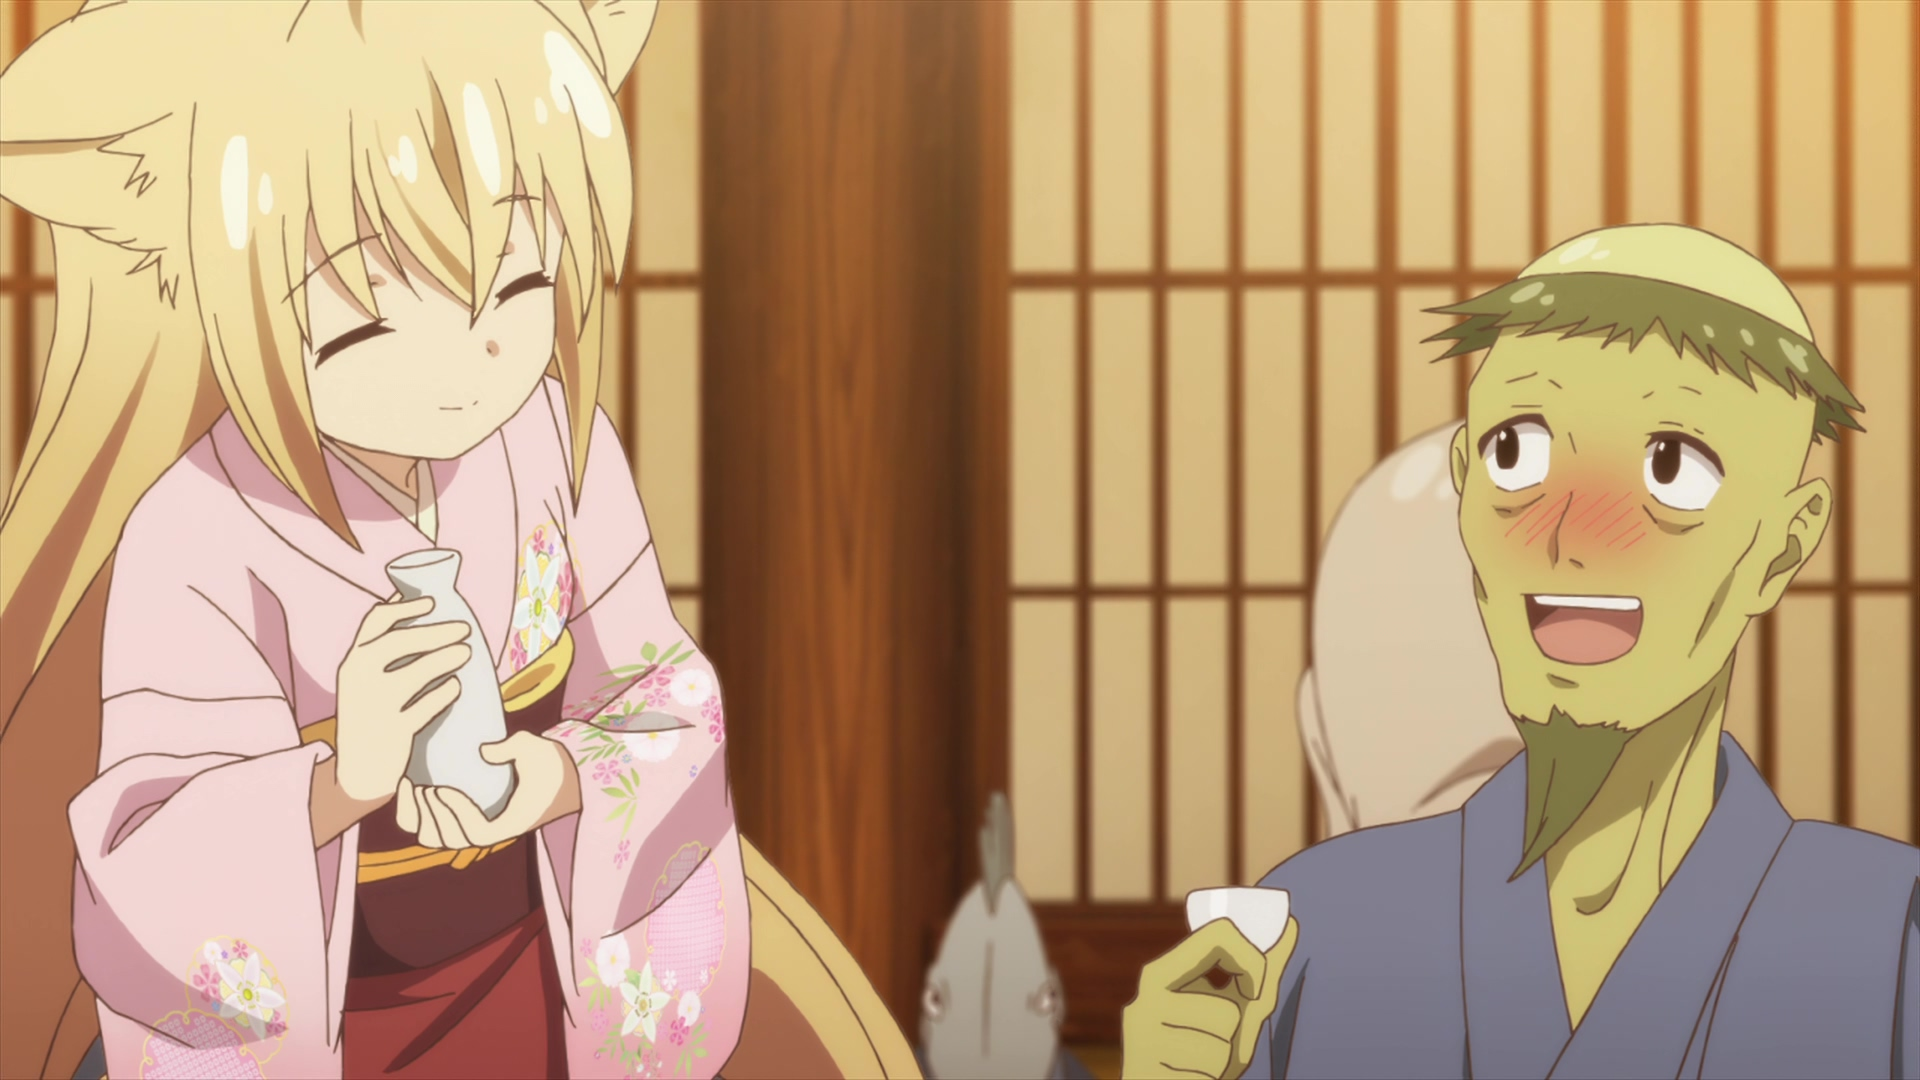其他: (1124, 225, 1920, 1080), (1298, 417, 1526, 837), (916, 794, 1065, 1080)
柚: (1, 1, 919, 1080)
